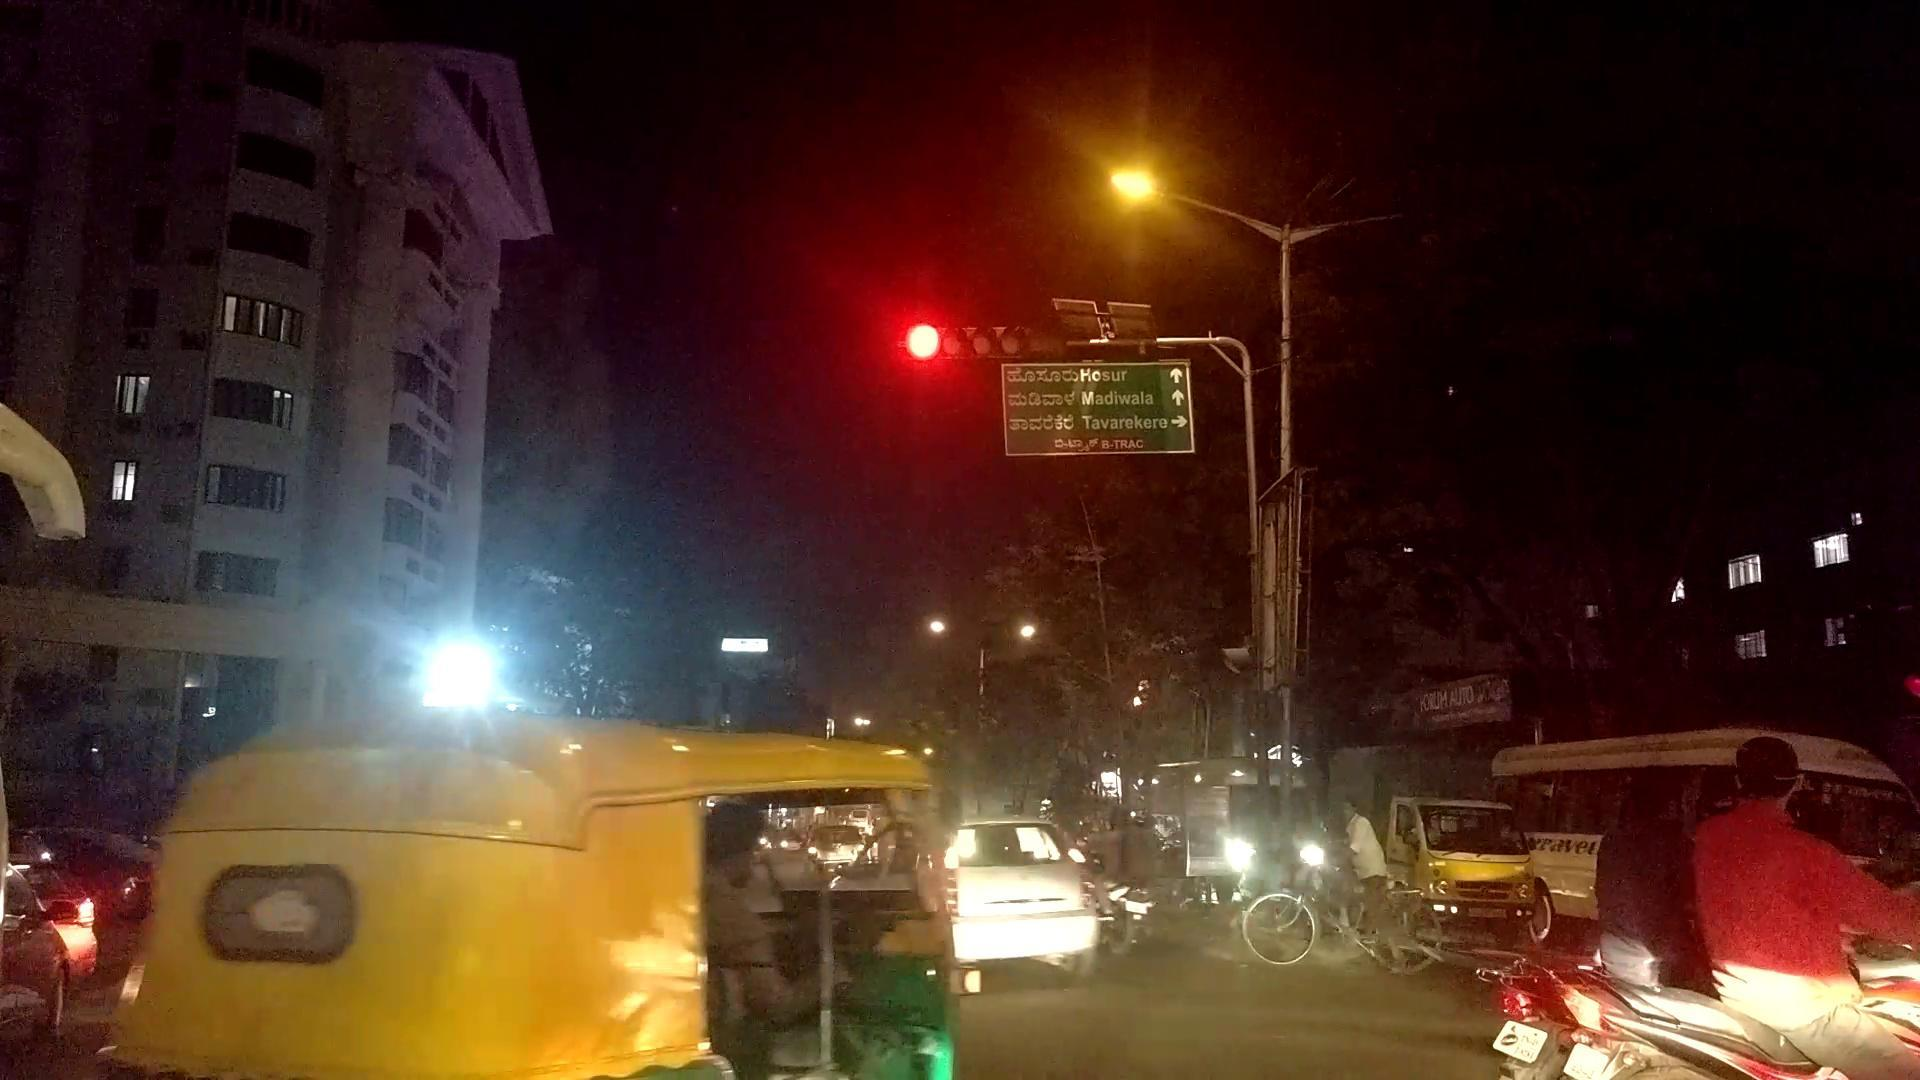on: (1019, 62, 1327, 274)
